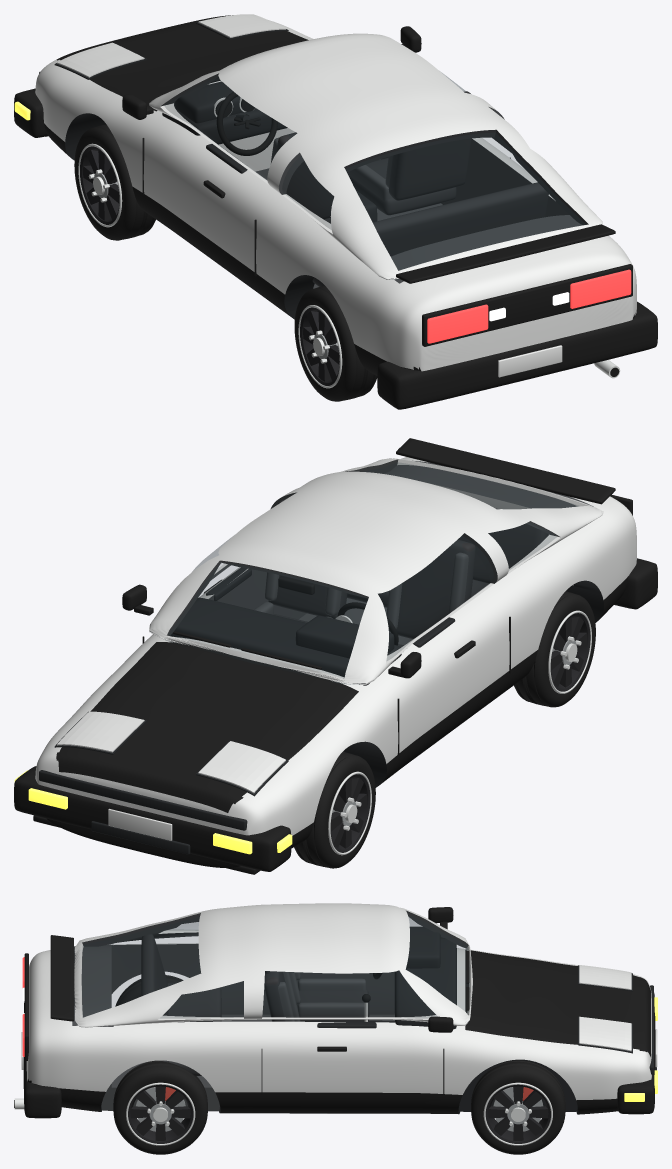
3 views of the same model, one above another, from view 1: azimuth 30°, elevation 25°; view 2: azimuth 150°, elevation 25°; view 3: azimuth 270°, elevation 25° (orthographic). The views are drawn at different scales.
Parts seen in each view (by area): view 1: body, greenhouse, glass, details, interior, wheel-back-left, wheel-front-left, lights; view 2: body, greenhouse, glass, details, interior, wheel-front-left, wheel-back-left, lights; view 3: body, greenhouse, glass, interior, details, wheel-front-right, wheel-back-right, lights, wheel-back-left.
Boxes of the visible parts, x1,y1,x2,y2 form: body: (35,15,636,375); greenhouse: (149,33,602,279); glass: (165,73,585,279); details: (14,14,657,409); interior: (162,81,548,286); wheel-back-left: (294,285,377,401); wheel-front-left: (74,124,155,240); lights: (14,101,631,343); body: (35,457,636,867); greenhouse: (149,458,603,684); glass: (164,463,577,684); details: (14,438,657,874); interior: (170,499,548,685); wheel-front-left: (294,752,375,868); wheel-back-left: (514,591,595,707); lights: (14,770,292,854); body: (26,943,651,1114); greenhouse: (74,903,472,1027); glass: (82,915,469,1017); interior: (141,926,456,1075); details: (14,907,657,1118); wheel-front-right: (471,1060,565,1154); wheel-back-right: (113,1060,207,1154); lights: (22,957,657,1101); wheel-back-left: (115,975,183,1006).
Size of the model in its own units: 1.82 by 1.35 by 4.32.
